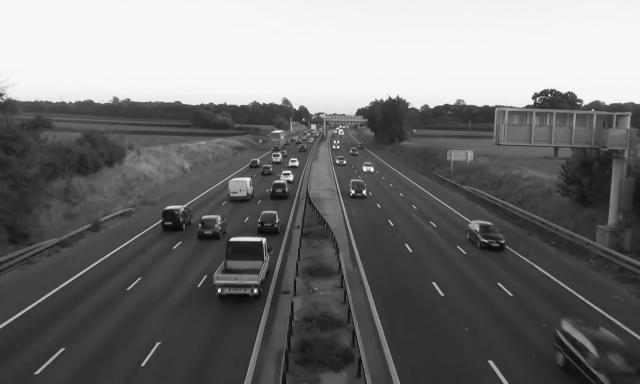caminhaog: (270, 129, 287, 151)
caminhaop: (213, 236, 274, 302)
carro: (555, 318, 640, 382), (466, 220, 506, 252), (160, 204, 193, 231), (196, 215, 228, 241), (257, 211, 282, 233), (269, 180, 291, 201), (348, 179, 368, 199), (279, 170, 295, 182), (361, 162, 375, 174), (261, 164, 274, 176), (334, 156, 347, 166), (249, 158, 262, 168), (288, 158, 300, 168), (350, 146, 360, 156), (298, 144, 308, 152), (278, 150, 288, 157), (356, 142, 364, 149), (332, 143, 340, 150), (332, 138, 340, 144), (285, 140, 291, 148), (296, 140, 302, 145)
van: (228, 176, 255, 202), (271, 153, 284, 164)
